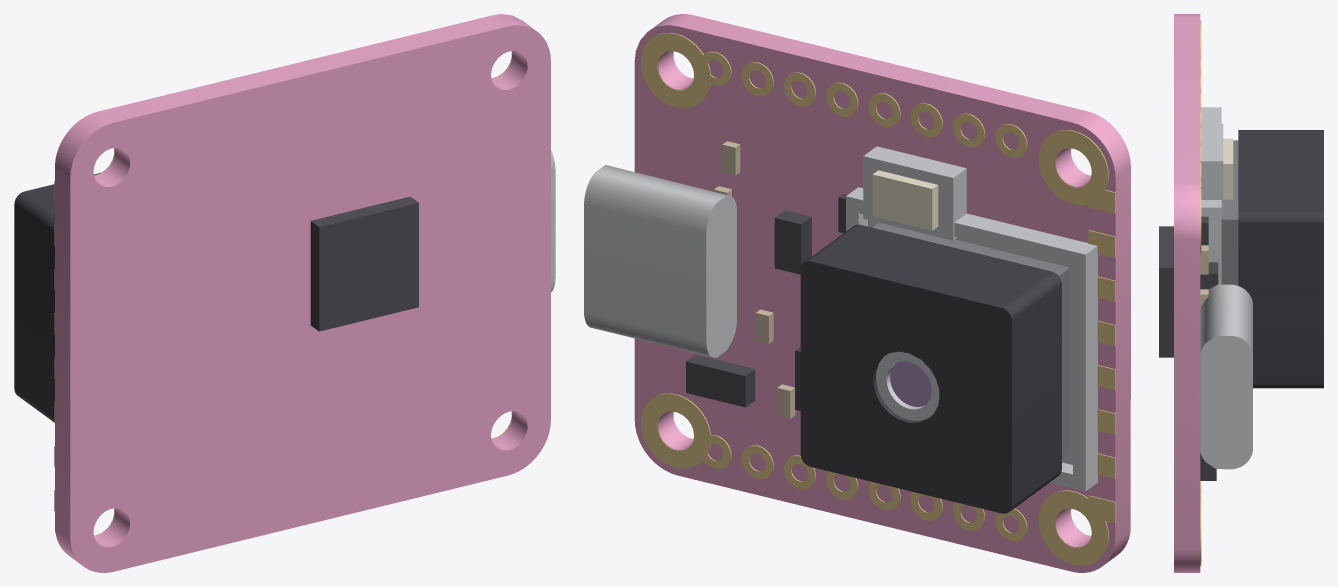
Rendered from thermal_cam.glb.
The picture shows the model from 3 angles, left to right: view 1: azimuth 30°, elevation 25°; view 2: azimuth 150°, elevation 25°; view 3: azimuth 270°, elevation 25°; orthographic projection. The views are drawn at different scales.
Visible parts, largest first — view 1: c_db669e, ic, c_0f0f11; view 2: c_db669e, c_0f0f11, steel, c_d8a84c, ic, c_3f3f44, c_d8cca5, c_a58c66, c_724c8c; view 3: c_0f0f11, c_db669e, steel, ic, c_3f3f44, c_d8cca5, c_d8a84c, c_a58c66.
Part boxes in pixels (x1,y1,x2,y2): c_db669e: (55,14,550,572); ic: (310,196,418,331); c_0f0f11: (14,173,100,421); c_db669e: (634,14,1130,572); c_0f0f11: (800,224,1061,513); steel: (584,146,1097,491); c_d8a84c: (641,33,1115,565); ic: (686,194,847,410); c_3f3f44: (872,222,1070,457); c_d8cca5: (872,170,938,230); c_a58c66: (714,141,795,418); c_724c8c: (890,361,931,406); c_0f0f11: (1238,130,1323,388); c_db669e: (1174,14,1200,572); steel: (1200,107,1252,469); ic: (1159,216,1218,480); c_3f3f44: (1221,140,1238,285); c_d8cca5: (1223,138,1233,199); c_d8a84c: (1200,20,1201,566); c_a58c66: (1200,245,1208,309).
Bounding box in the file's own units: 0.0301 × 0.0258 × 0.01.
